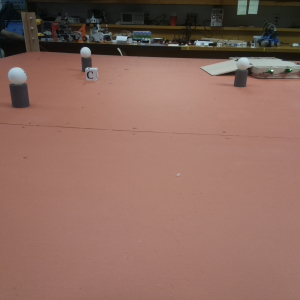blockC: (84, 69, 97, 83)
corner: (21, 12, 39, 50)
obstacle: (9, 68, 30, 109), (235, 58, 247, 88), (81, 48, 91, 69)
side: (257, 65, 300, 80)
slope: (204, 59, 252, 74)
